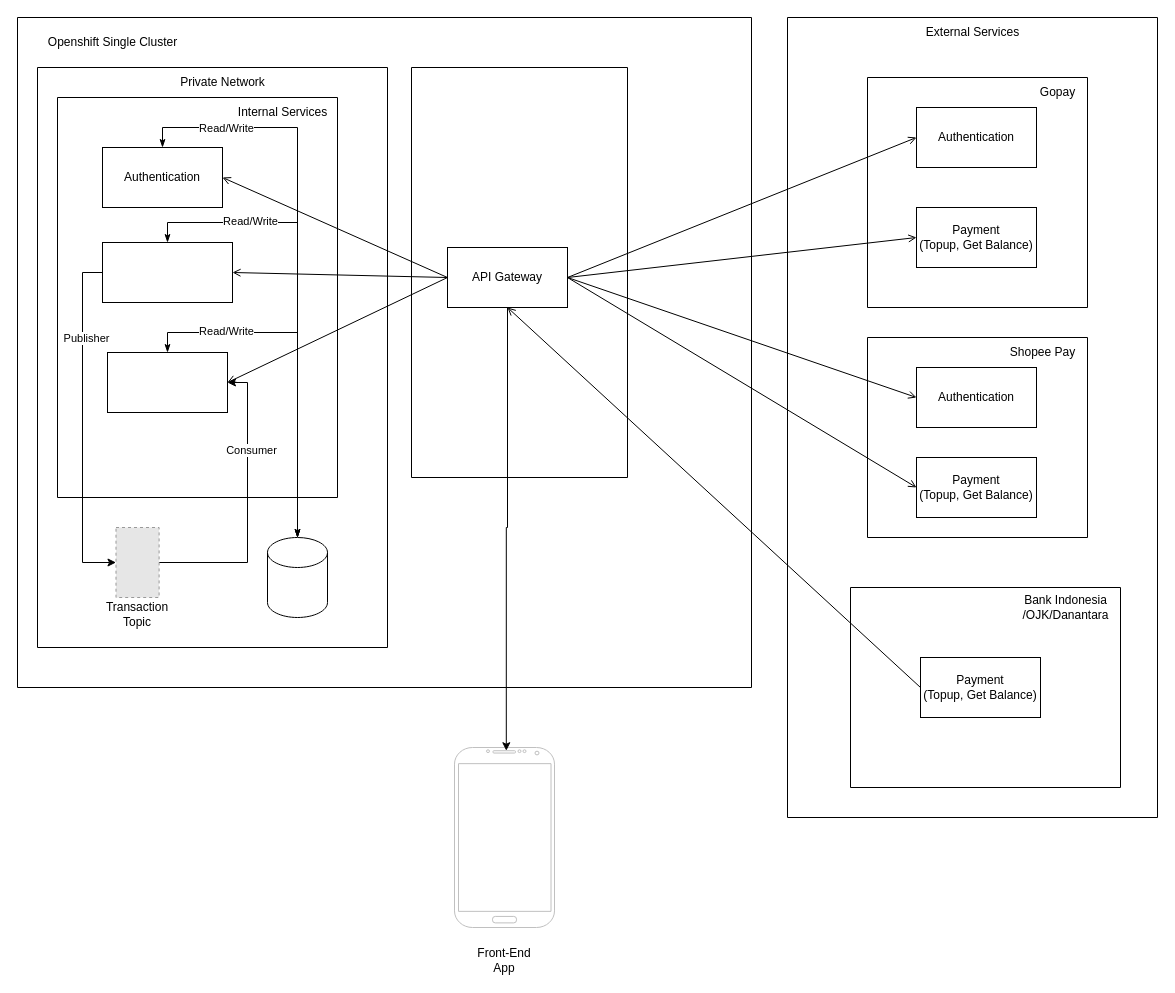
This 1175x993 diagram has some shape labels left out. Grey dashed boxes stand in for pictures. Here are the shapes that lost their labels. From the top down, the box of each, then its label:
(102, 242, 232, 302): Payment (Topup, Get Account Balance, Get E-Wallet Balance)
(410, 66, 628, 478): Public Network
(106, 352, 228, 412): Historical Transaction
(266, 536, 328, 618): DB
